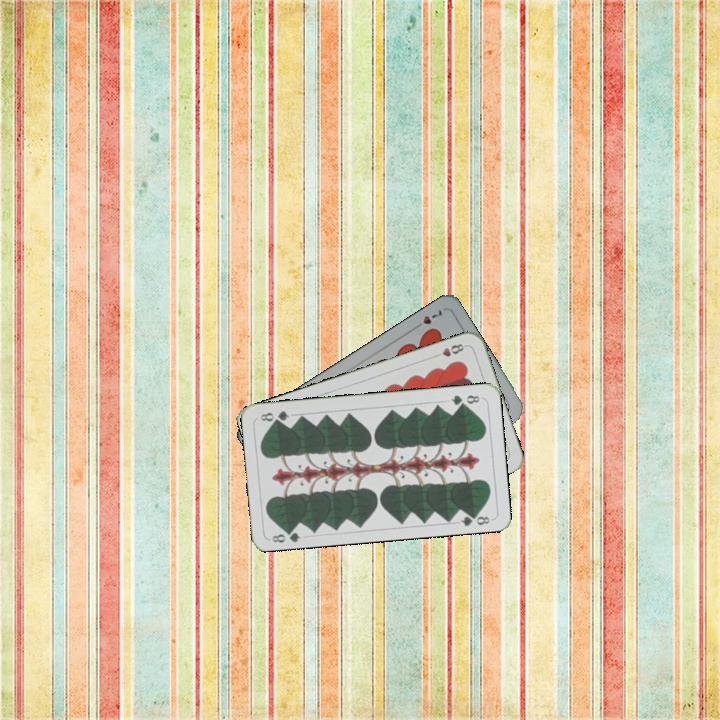G8: (268, 524, 303, 545), (447, 391, 482, 408)
H7: (409, 305, 445, 332)
H8: (429, 340, 468, 360)
